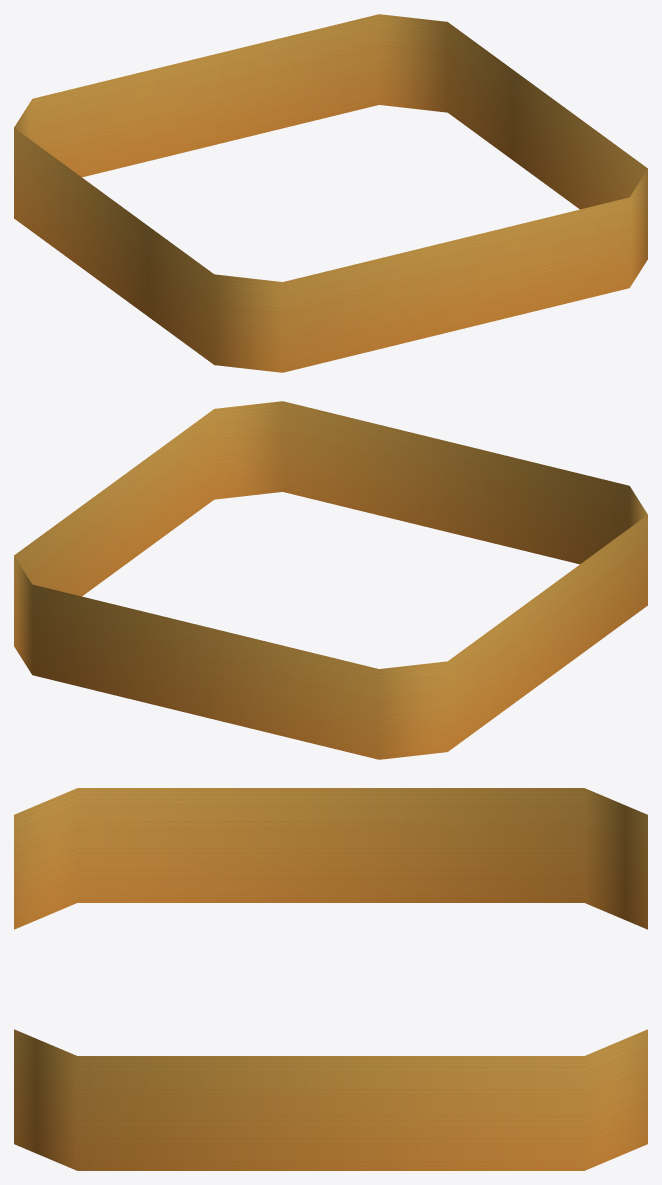
Rendered from selection-b.glb.
3 renders of one model, top to bottom at view 1: azimuth 30°, elevation 25°; view 2: azimuth 150°, elevation 25°; view 3: azimuth 270°, elevation 25°, orthographic. The views are drawn at different scales.
Parts seen in each view (by area): view 1: selection-b; view 2: selection-b; view 3: selection-b.
Boxes of the visible parts, bbox=[...] form: selection-b: bbox=[14, 14, 647, 372]; selection-b: bbox=[14, 401, 647, 759]; selection-b: bbox=[14, 788, 647, 1170].
Bounding box in the file's own units: 1 × 0.2 × 1.
1 material, 1 textured.
